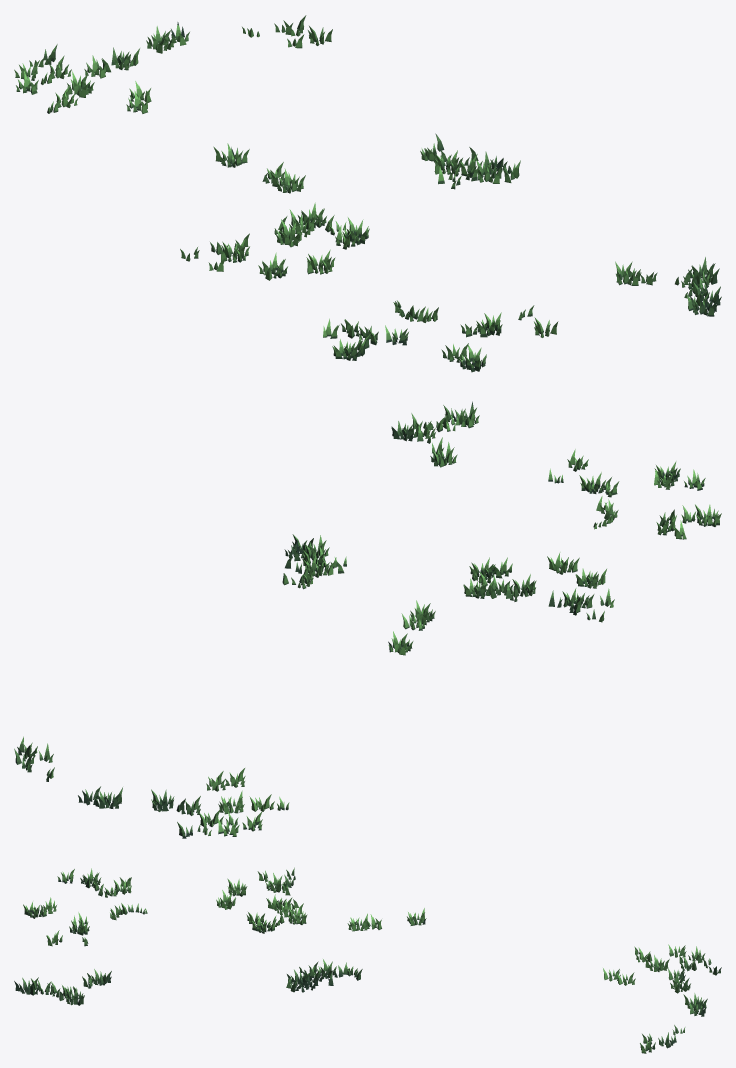
The model's file is Plant_02.FBX.
The picture shows the model from 3 angles, top to bottom: view 1: azimuth 30°, elevation 25°; view 2: azimuth 150°, elevation 25°; view 3: azimuth 270°, elevation 25°; orthographic projection. The views are drawn at different scales.
Visible parts, largest first — view 1: Plant_02; view 2: Plant_02; view 3: Plant_02.
Part boxes in pixels (x1,y1,x2,y2): Plant_02: (14, 15, 721, 372); Plant_02: (14, 401, 721, 838); Plant_02: (14, 867, 721, 1053).
Size of the model in its own units: 18.89 by 4.23 by 40.87.
